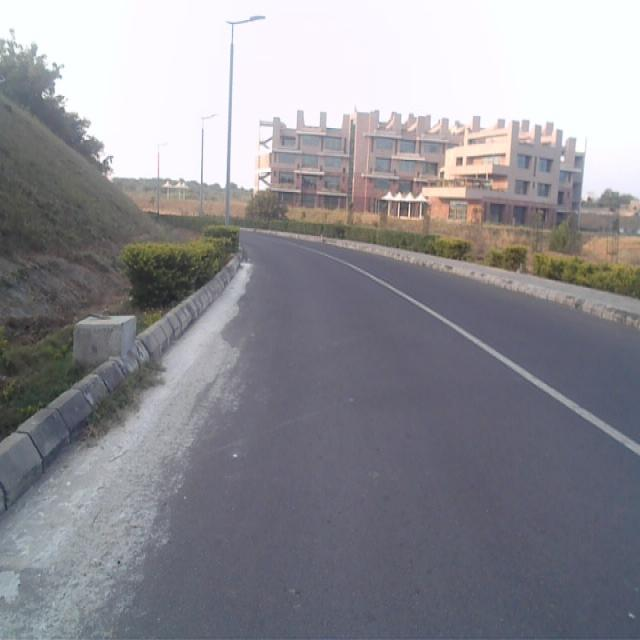lane: (0, 242, 640, 640)
